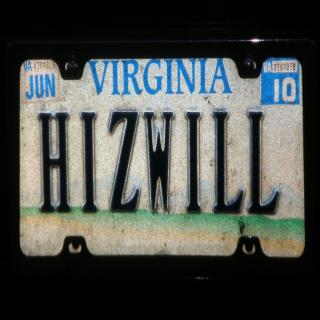license: (20, 59, 306, 261)
